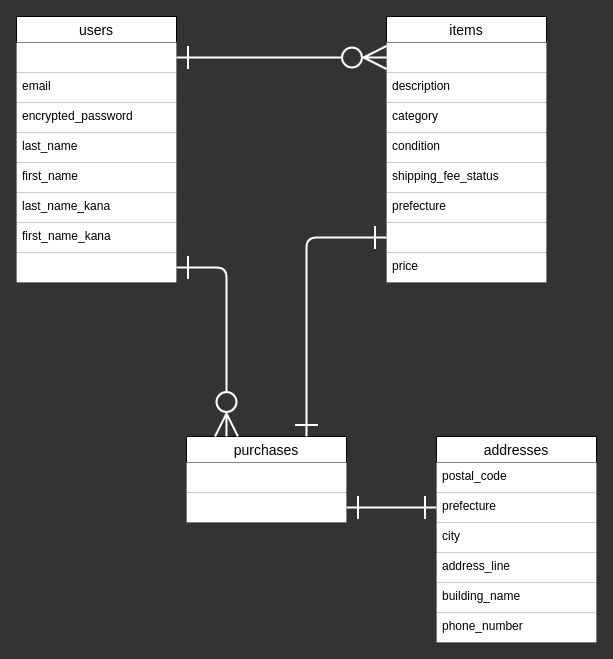
This 613x659 diagram has some shape labels left out. The shapes that lost their labels are listed below. From the top down, each one's centre as x and y in pixels, then its label:
At (96,57): "nickname".
At (466,57): "name".
At (466,237): "scheduled_delivery".
At (96,267): "birth_date".
At (266,477): "user".
At (266,507): "item".
